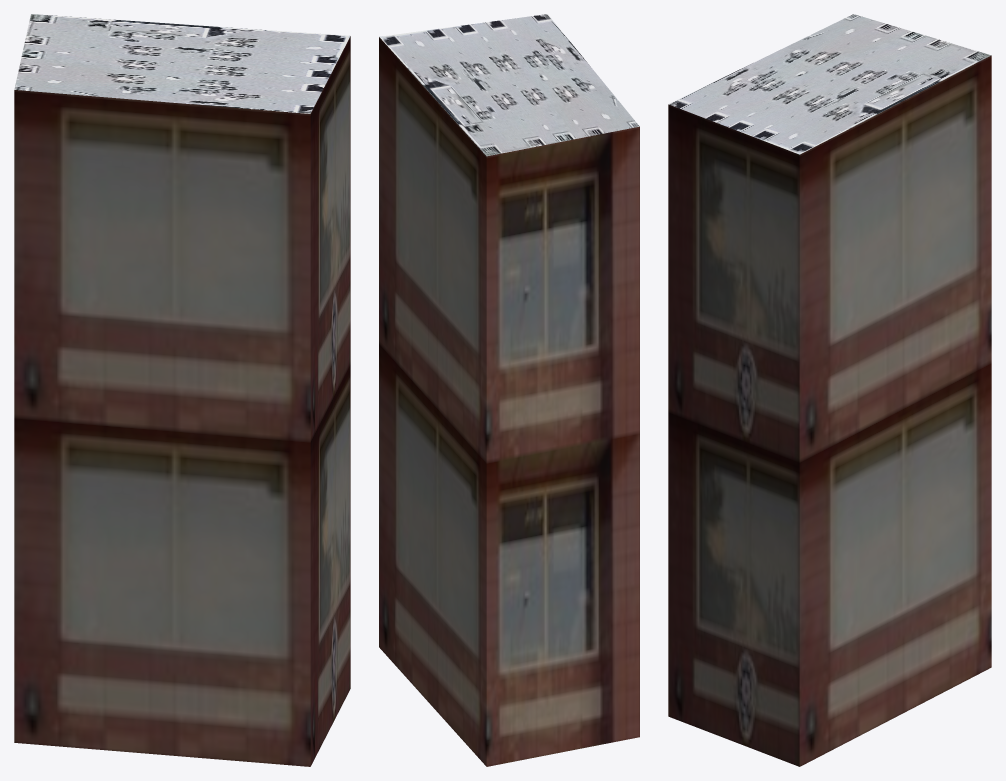
Rendered from ResTex__152.fbx.
The picture shows the model from 3 angles, left to right: view 1: azimuth 30°, elevation 25°; view 2: azimuth 150°, elevation 25°; view 3: azimuth 270°, elevation 25°; orthographic projection. The views are drawn at different scales.
Parts seen in each view (by area): view 1: CityEngineMaterial_13_m, CityEngineMaterial_2_m; view 2: CityEngineMaterial_13_m, CityEngineMaterial_2_m; view 3: CityEngineMaterial_13_m, CityEngineMaterial_2_m.
Boxes of the visible parts, <box> form: CityEngineMaterial_13_m: <box>14,36,350,766</box>; CityEngineMaterial_2_m: <box>14,14,350,113</box>; CityEngineMaterial_13_m: <box>379,37,639,766</box>; CityEngineMaterial_2_m: <box>379,14,639,156</box>; CityEngineMaterial_13_m: <box>668,55,991,766</box>; CityEngineMaterial_2_m: <box>668,14,991,154</box>.
Bounding box in the file's own units: 2.96 × 6 × 2.87.
2 materials, 2 textured.
